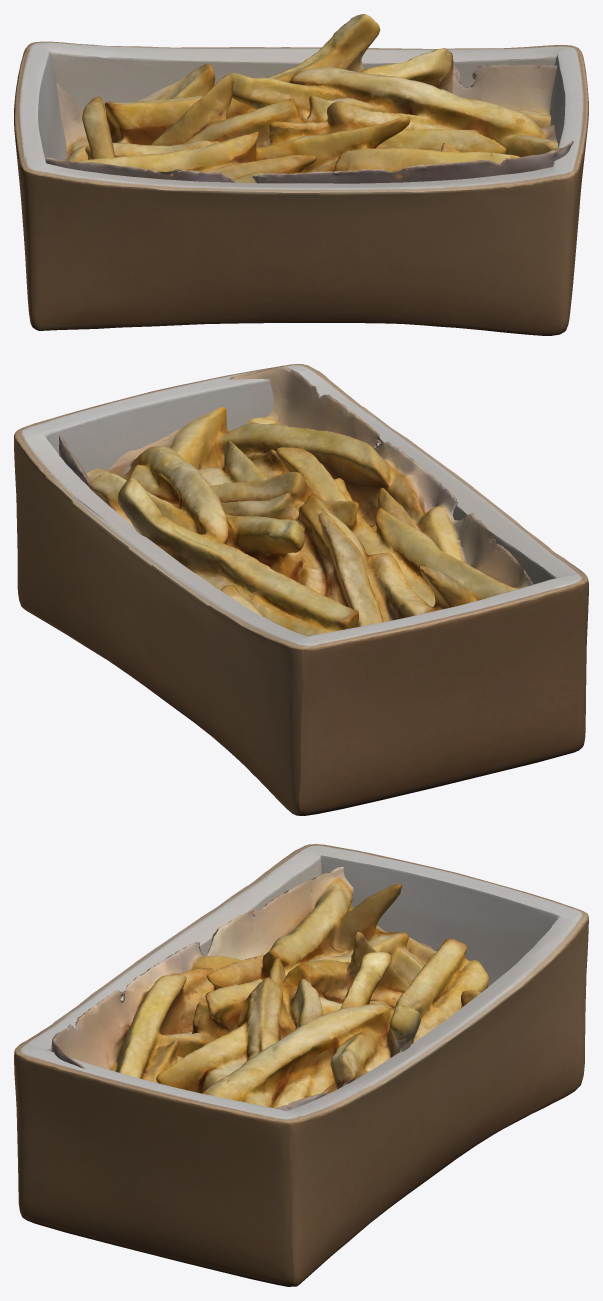
The model's file is French.fries.glb.
3 views of the same model, one above another, from view 1: azimuth 30°, elevation 25°; view 2: azimuth 150°, elevation 25°; view 3: azimuth 270°, elevation 25° (orthographic). The views are drawn at different scales.
Parts seen in each view (by area): view 1: /Root/Scenes/Scene/Object_308/Object_312/Object_313/Submesh_, /Root/Scenes/Scene/Object_308/Object_309/Submesh_0; view 2: /Root/Scenes/Scene/Object_308/Object_312/Object_313/Submesh_, /Root/Scenes/Scene/Object_308/Object_309/Submesh_0; view 3: /Root/Scenes/Scene/Object_308/Object_312/Object_313/Submesh_, /Root/Scenes/Scene/Object_308/Object_309/Submesh_0.
Boxes of the visible parts, <box> form: /Root/Scenes/Scene/Object_308/Object_312/Object_313/Submesh_: <box>14,41,588,335</box>; /Root/Scenes/Scene/Object_308/Object_309/Submesh_0: <box>45,14,573,183</box>; /Root/Scenes/Scene/Object_308/Object_312/Object_313/Submesh_: <box>14,364,588,815</box>; /Root/Scenes/Scene/Object_308/Object_309/Submesh_0: <box>59,366,533,636</box>; /Root/Scenes/Scene/Object_308/Object_312/Object_313/Submesh_: <box>14,844,588,1286</box>; /Root/Scenes/Scene/Object_308/Object_309/Submesh_0: <box>51,866,488,1110</box>.
Size of the model in its own units: 0.2357 by 0.0818 by 0.2048.
Materials: 2 (2 with a texture image).
